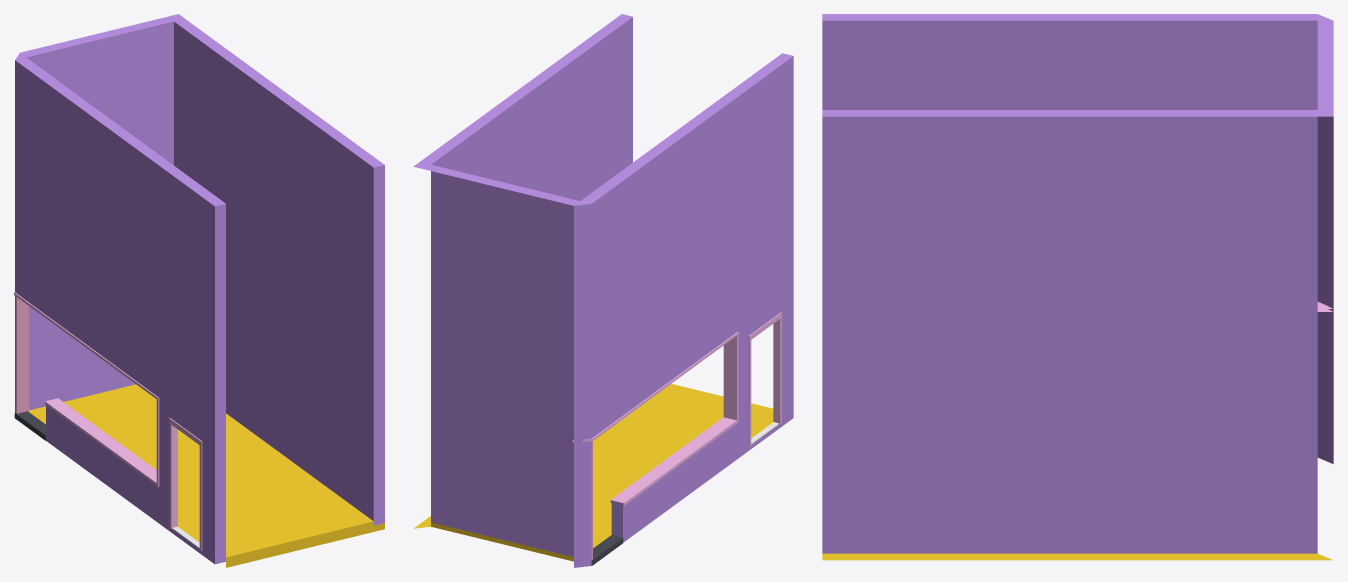
The model's file is Kitchens.fbx.
3 renders of one model, left to right at view 1: azimuth 30°, elevation 25°; view 2: azimuth 150°, elevation 25°; view 3: azimuth 270°, elevation 25°, orthographic. The views are drawn at different scales.
Parts seen in each view (by area): view 1: Kitchen 01 Red; view 2: Kitchen 01 Red; view 3: Kitchen 01 Red.
Boxes of the visible parts, <box> form: Kitchen 01 Red: <box>14,14,384,567</box>; Kitchen 01 Red: <box>413,14,793,567</box>; Kitchen 01 Red: <box>822,14,1333,560</box>.
Size of the model in its own units: 215 by 438 by 450.
